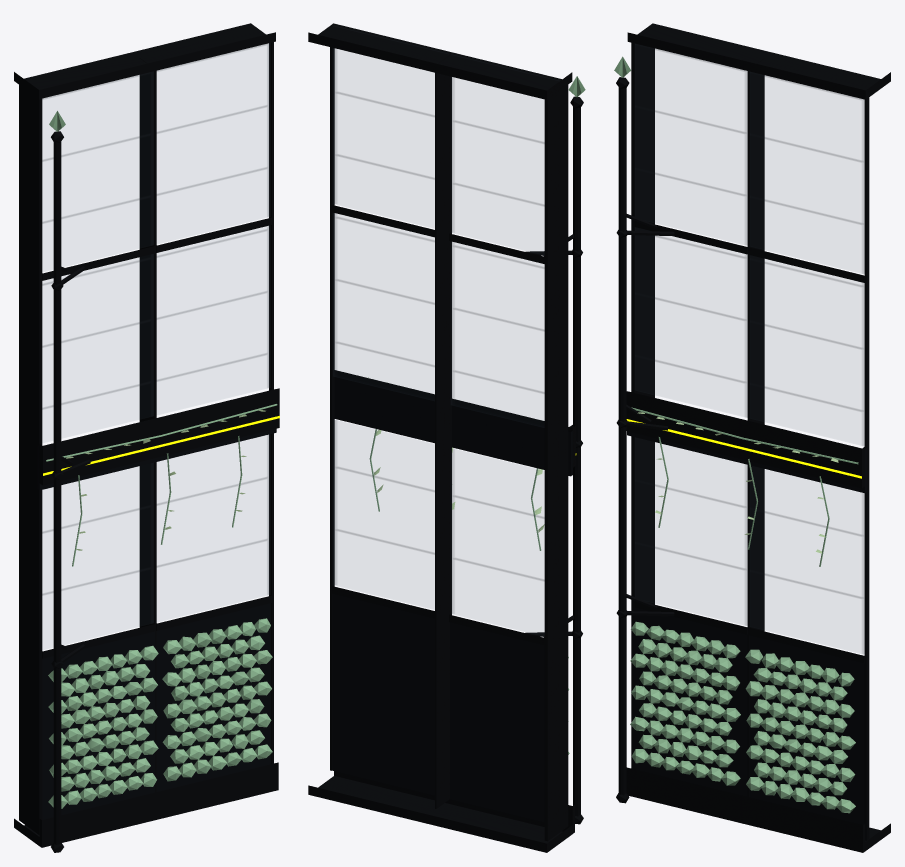
3 renders of one model, left to right at view 1: azimuth 30°, elevation 25°; view 2: azimuth 150°, elevation 25°; view 3: azimuth 330°, elevation 25°, orthographic.
Parts seen in each view (by area): view 1: Frame, Green_Wall, Slate_Panels, Slab_Band_Step, Glass_5, Glass_7, Glass_4, Glass_6, Glass_3, Slab_Band_Slate, Glass_2, Slab_Band_Court_Line (+2 smaller); view 2: Frame, Slate_Panels, Slab_Band_Slate, Glass_5, Glass_4, Glass_3, Glass_7, Glass_2, Slab_Band_Step, Glass_6; view 3: Frame, Green_Wall, Slate_Panels, Slab_Band_Step, Glass_5, Glass_4, Glass_7, Glass_6, Glass_3, Glass_2, Slab_Band_Slate, Slab_Band_Court_Line (+2 smaller).
Boxes of the visible parts, x1,y1,x2,y2 form: Frame: (14, 23, 278, 852); Green_Wall: (48, 618, 272, 808); Slate_Panels: (42, 603, 271, 819); Slab_Band_Step: (39, 388, 279, 485); Glass_5: (157, 226, 270, 387); Glass_7: (157, 43, 270, 216); Glass_4: (42, 254, 153, 416); Glass_6: (42, 71, 153, 245); Glass_3: (157, 434, 270, 594); Slab_Band_Slate: (37, 389, 276, 490); Glass_2: (42, 463, 153, 623); Slab_Band_Court_Line: (43, 415, 279, 475); Frame: (308, 23, 583, 852); Slate_Panels: (332, 593, 544, 822); Slab_Band_Slate: (334, 374, 572, 476); Glass_5: (333, 213, 434, 376); Glass_4: (451, 242, 544, 405); Glass_3: (333, 419, 434, 585); Glass_7: (333, 48, 434, 203); Glass_2: (451, 448, 544, 613); Slab_Band_Step: (334, 370, 575, 467); Glass_6: (451, 77, 544, 232); Frame: (616, 23, 890, 852); Green_Wall: (630, 621, 855, 813); Slate_Panels: (634, 607, 864, 824); Slab_Band_Step: (626, 391, 865, 488); Glass_5: (750, 258, 864, 445); Glass_4: (635, 230, 747, 417); Glass_7: (750, 72, 864, 273); Glass_6: (635, 44, 747, 245); Glass_3: (750, 493, 864, 654); Glass_2: (635, 464, 747, 625); Slab_Band_Slate: (627, 391, 866, 493); Slab_Band_Court_Line: (626, 419, 861, 478).
Bounding box in the file's own units: 4 × 12.2 × 1.2.
6 materials, 3 textured.
